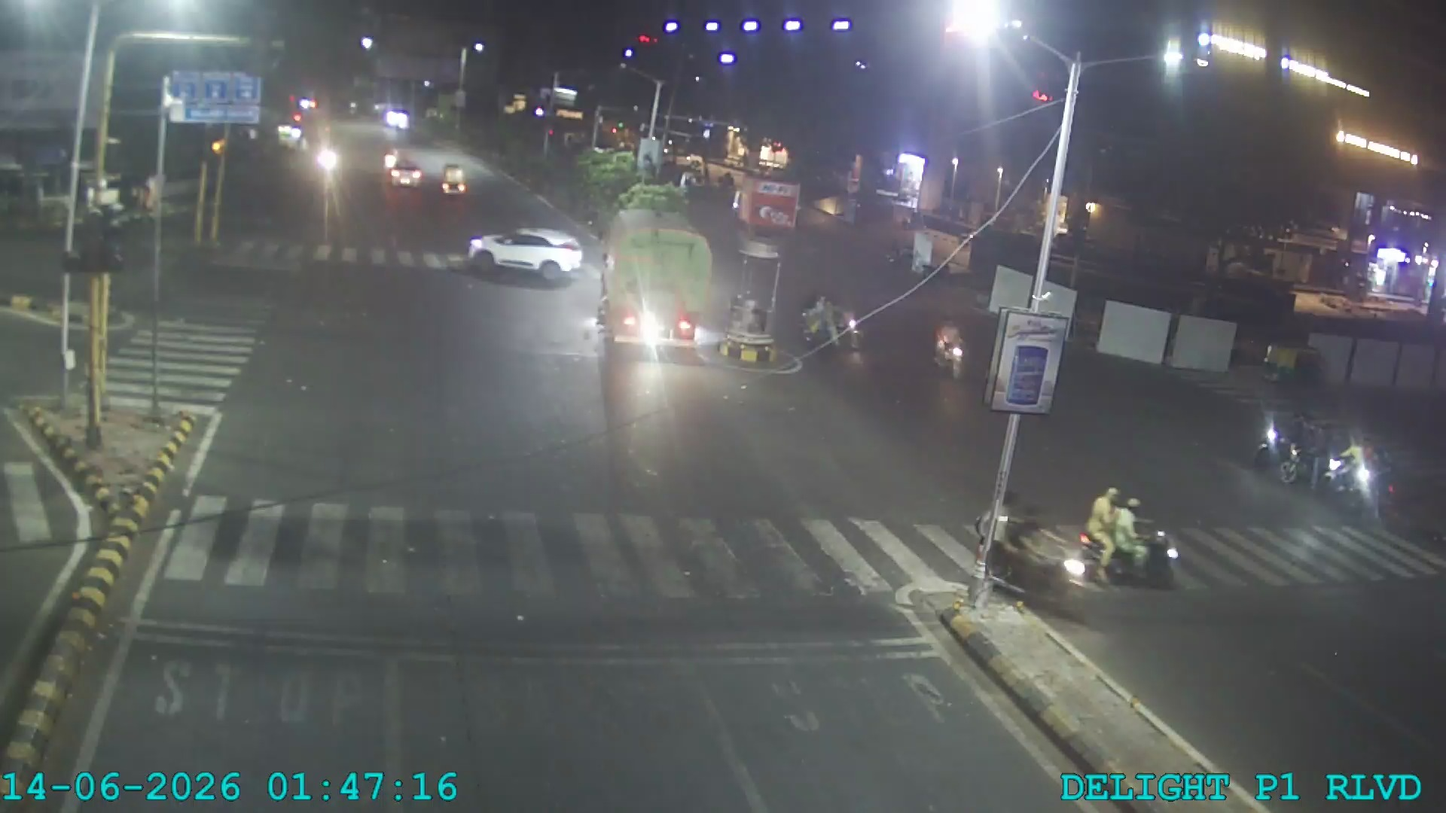auto_rickshaw: (1248, 402, 1391, 499), (381, 146, 424, 187)
car: (463, 220, 585, 287), (382, 144, 426, 189)
two_wheeler: (1070, 475, 1187, 591), (795, 286, 862, 358), (595, 271, 652, 354), (930, 317, 968, 377)
